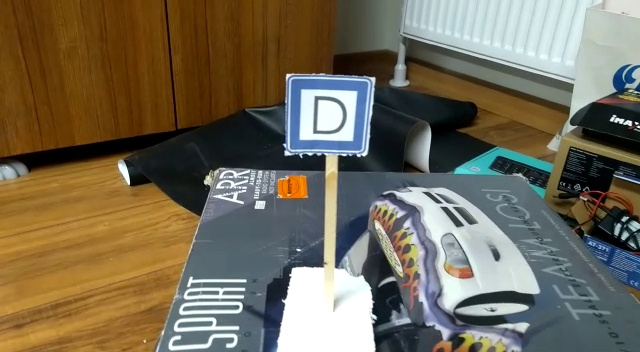durak: (277, 69, 379, 160)
